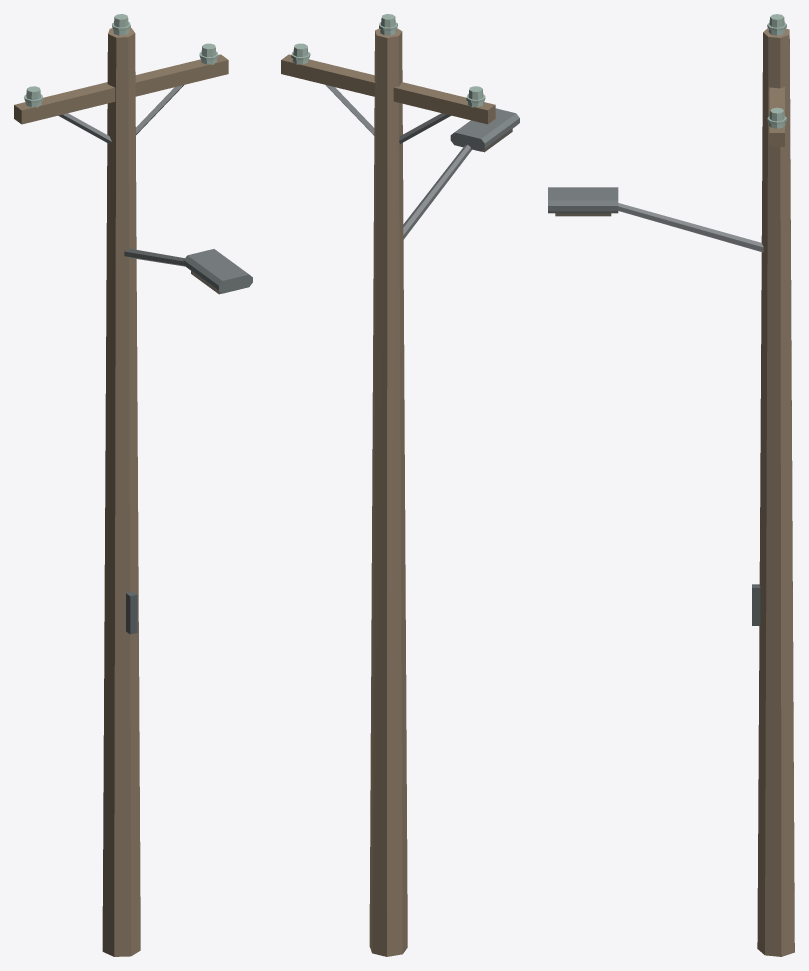
File: power_pole.glb
3 renders of one model, left to right at view 1: azimuth 30°, elevation 25°; view 2: azimuth 150°, elevation 25°; view 3: azimuth 270°, elevation 25°, orthographic.
Visible parts, largest first — view 1: body; view 2: body; view 3: body.
Part boxes in pixels (left/top/right/bottom): body: left=14, top=14, right=252, bottom=956; body: left=281, top=14, right=519, bottom=956; body: left=548, top=14, right=794, bottom=956.
Size of the model in its own units: 1.7 by 7.32 by 1.76.
